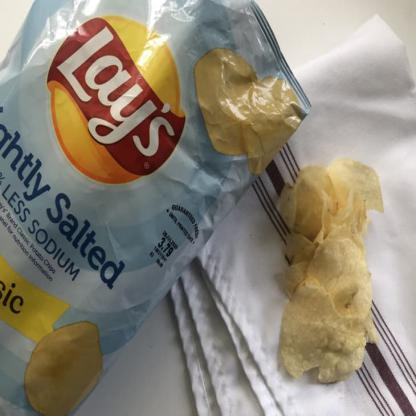potatochip: (0, 0, 315, 415)
